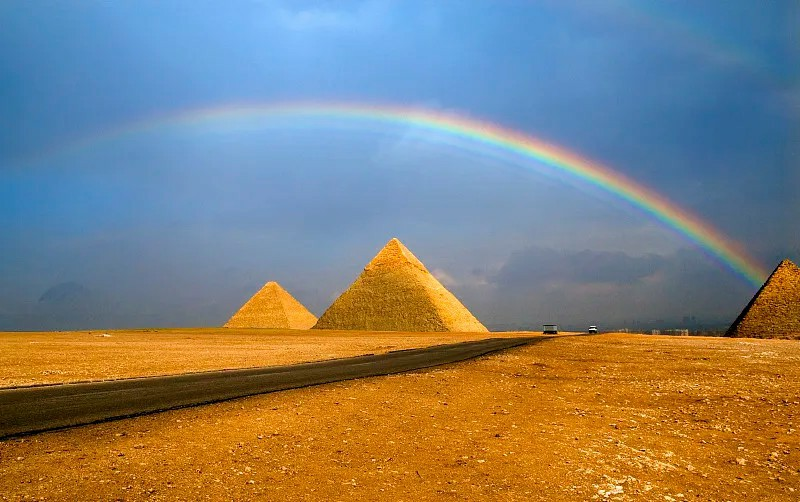Pyramid: (310, 238, 489, 333), (725, 259, 800, 342), (222, 281, 318, 328)
